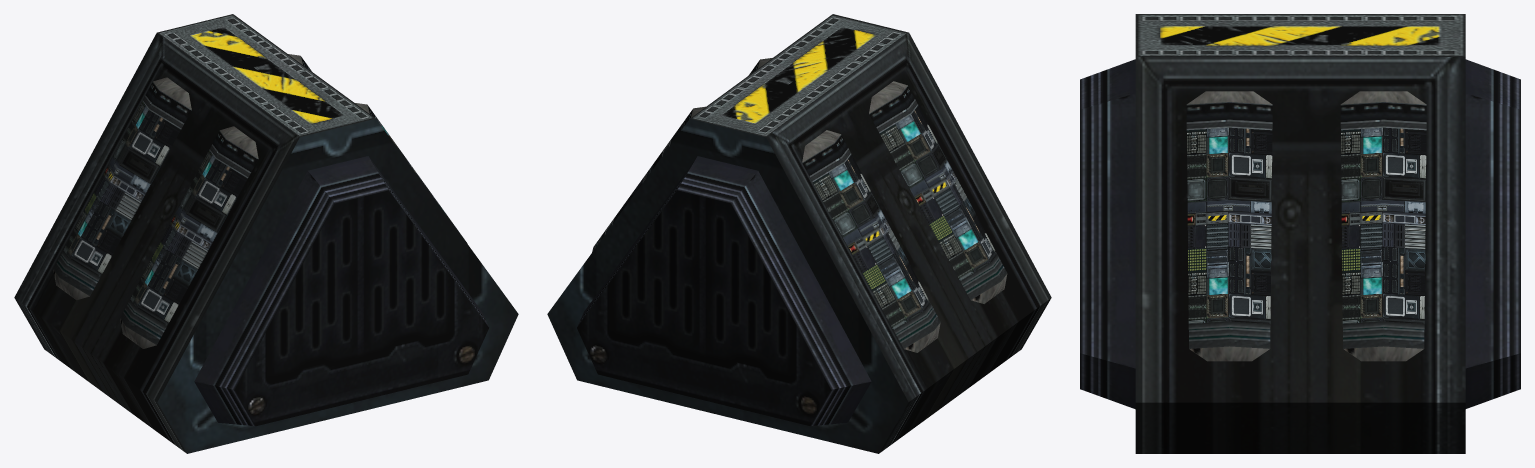
File: Battery_medium_05.FBX
The picture shows the model from 3 angles, left to right: view 1: azimuth 30°, elevation 25°; view 2: azimuth 150°, elevation 25°; view 3: azimuth 270°, elevation 25°; orthographic projection. The views are drawn at different scales.
Visible parts, largest first — view 1: Battery_medium_05, Liquid; view 2: Battery_medium_05, Liquid; view 3: Battery_medium_05, Liquid.
Boxes of the visible parts, x1,y1,x2,y2 form: Battery_medium_05: (14, 14, 518, 453); Liquid: (63, 71, 457, 325); Battery_medium_05: (547, 14, 1051, 453); Liquid: (602, 74, 996, 329); Battery_medium_05: (1080, 14, 1520, 453); Liquid: (1186, 127, 1426, 323).
Bounding box in the file's own units: 181 × 138 × 165.
